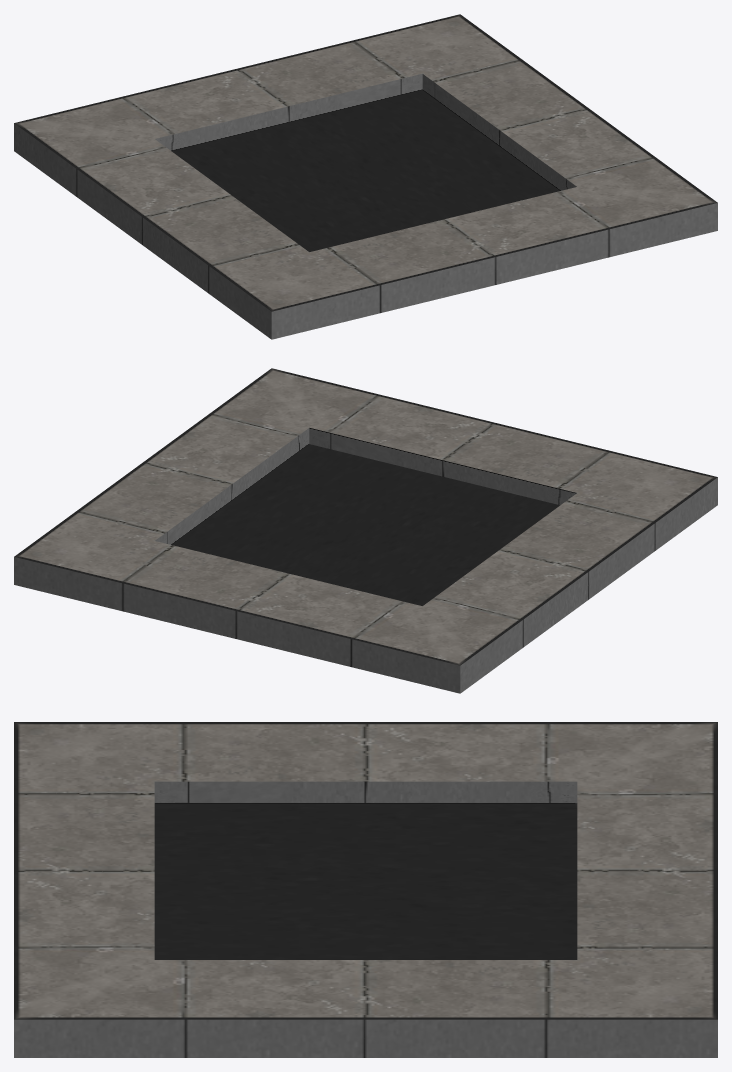
Rendered from 2L-zer.fbx.
3 renders of one model, top to bottom at view 1: azimuth 30°, elevation 25°; view 2: azimuth 150°, elevation 25°; view 3: azimuth 270°, elevation 25°, orthographic. The views are drawn at different scales.
Parts seen in each view (by area): view 1: 2L-zer_LOD0; view 2: 2L-zer_LOD0; view 3: 2L-zer_LOD0.
Part boxes in pixels (x1,y1,x2,y2): 2L-zer_LOD0: [14, 14, 717, 339]; 2L-zer_LOD0: [14, 368, 717, 693]; 2L-zer_LOD0: [14, 722, 717, 1057].
Size of what is drawn, in the model's own units: 200 by 12 by 200.
